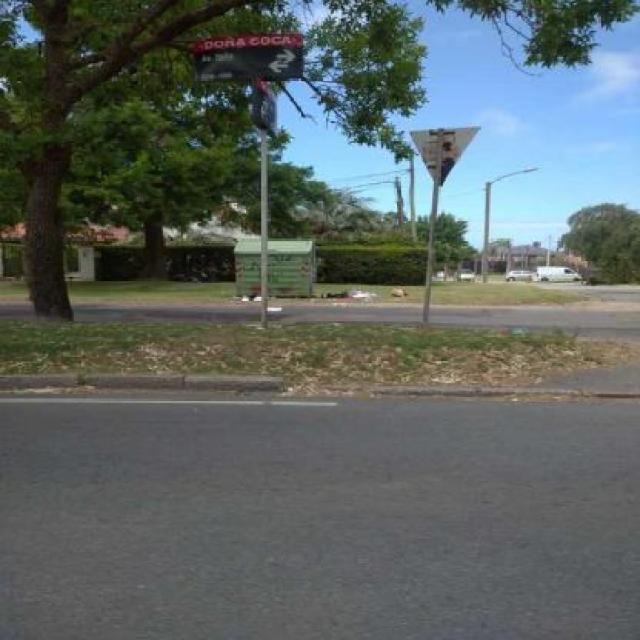garbage: (315, 285, 408, 310), (228, 294, 275, 308), (266, 306, 286, 313)
